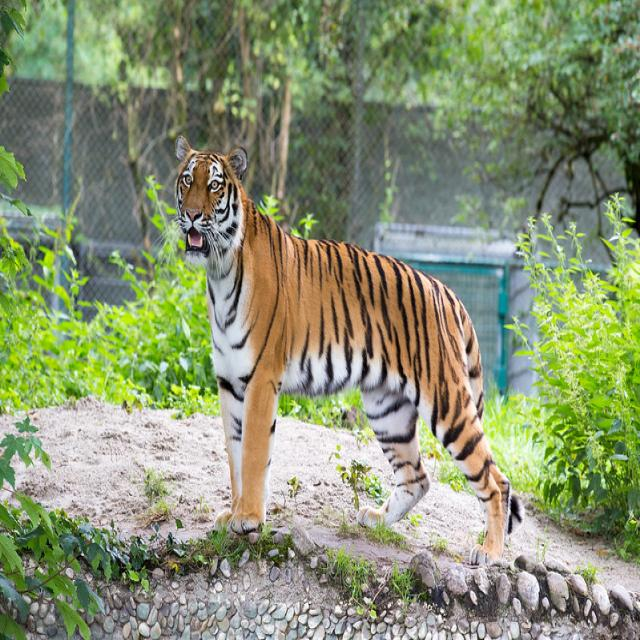Tiger: (173, 133, 531, 556)
